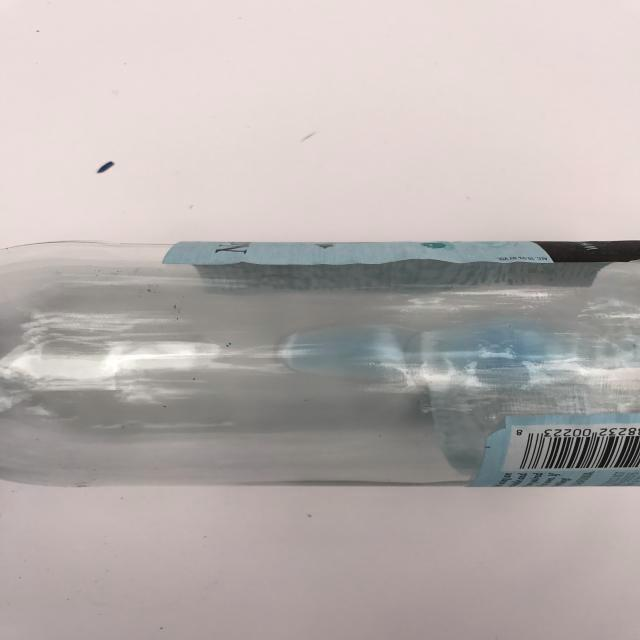glass: (0, 226, 640, 497)
